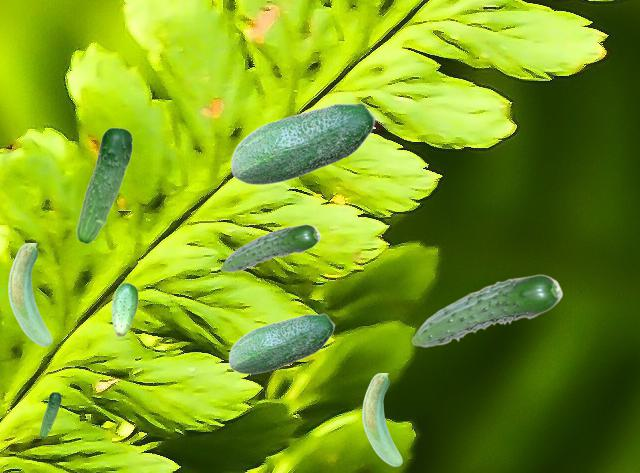cucumber: (230, 102, 375, 184), (411, 274, 562, 346), (75, 127, 132, 243), (228, 313, 334, 373), (220, 224, 320, 271), (8, 243, 51, 345), (362, 373, 401, 465), (111, 282, 137, 336), (39, 392, 60, 437)
